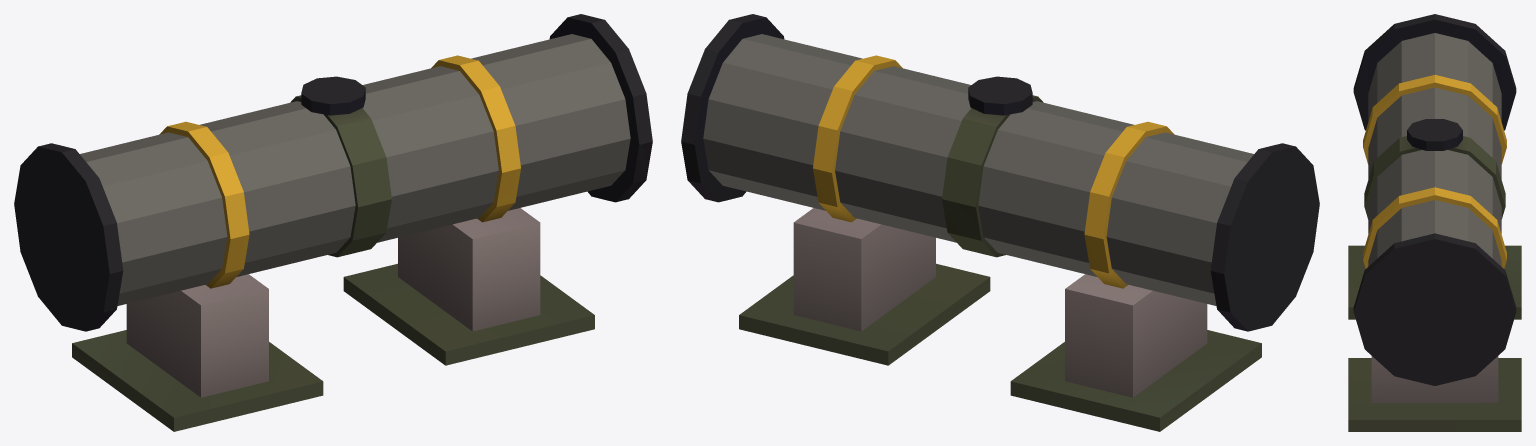
File: kit.dispersal-pipe-straight.lod1.glb
3 views of the same model, side by side, from view 1: azimuth 30°, elevation 25°; view 2: azimuth 150°, elevation 25°; view 3: azimuth 270°, elevation 25° (orthographic). The views are drawn at different scales.
Parts seen in each view (by area): view 1: body; view 2: body; view 3: body.
Part boxes in pixels (x1=…): body: x1=14, y1=14, x2=652, y2=431; body: x1=681, y1=14, x2=1319, y2=431; body: x1=1348, y1=14, x2=1521, y2=431.
Size of the model in its own units: 8 by 3.62 by 2.6.
